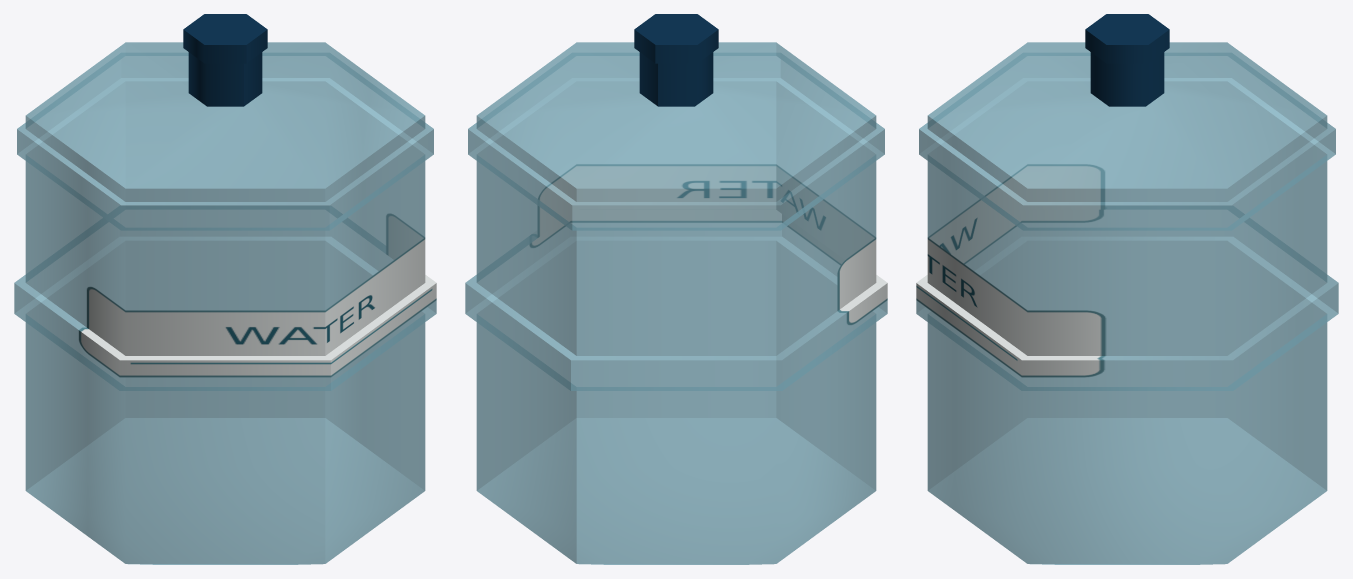
The model's file is 02_water_cooler_bottle.glb.
3 renders of one model, left to right at view 1: azimuth 30°, elevation 25°; view 2: azimuth 150°, elevation 25°; view 3: azimuth 270°, elevation 25°, orthographic.
Visible parts, largest first — view 1: water_cooler_bottle; view 2: water_cooler_bottle; view 3: water_cooler_bottle.
Boxes of the visible parts, x1=… form: water_cooler_bottle: x1=14, y1=14, x2=436, y2=564; water_cooler_bottle: x1=465, y1=14, x2=887, y2=564; water_cooler_bottle: x1=916, y1=14, x2=1338, y2=564.
Size of the model in its own units: 0.3491 by 0.5123 by 0.4031.
2 materials, 2 textured.
